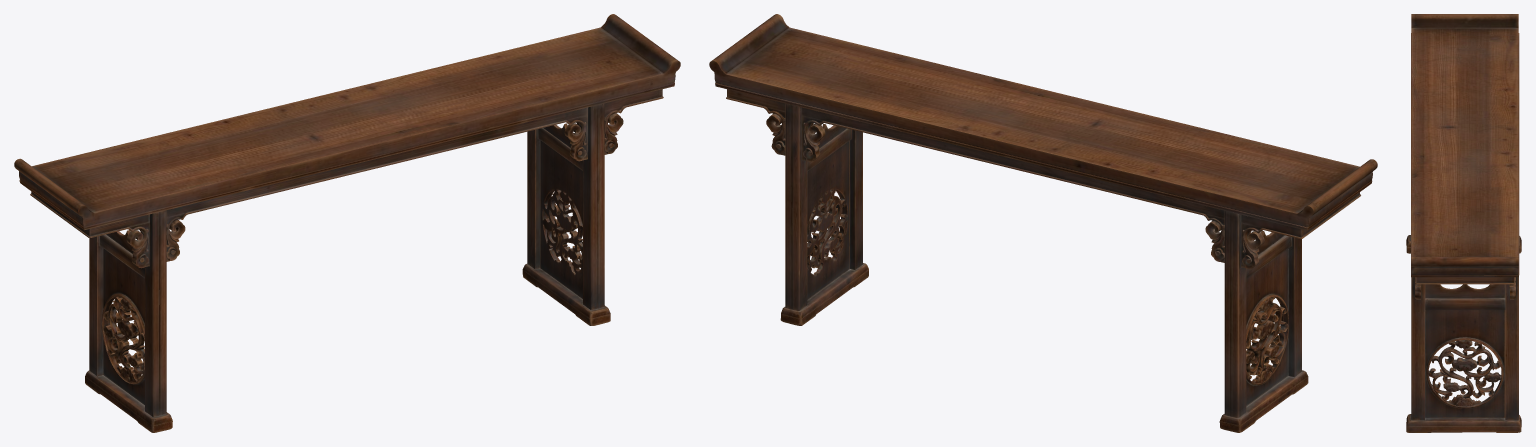
Rendered from ph_chinese_console_table.glb.
3 views of the same model, side by side, from view 1: azimuth 30°, elevation 25°; view 2: azimuth 150°, elevation 25°; view 3: azimuth 270°, elevation 25° (orthographic). The views are drawn at different scales.
Visible parts, largest first — view 1: chinese_console_table; view 2: chinese_console_table; view 3: chinese_console_table.
Part boxes in pixels (bbox=[...]): chinese_console_table: bbox=[14, 14, 680, 432]; chinese_console_table: bbox=[709, 14, 1377, 432]; chinese_console_table: bbox=[1406, 14, 1521, 432].
Bounding box in the file's own units: 1.72 × 0.6607 × 0.3388.
1 material, 1 textured.
